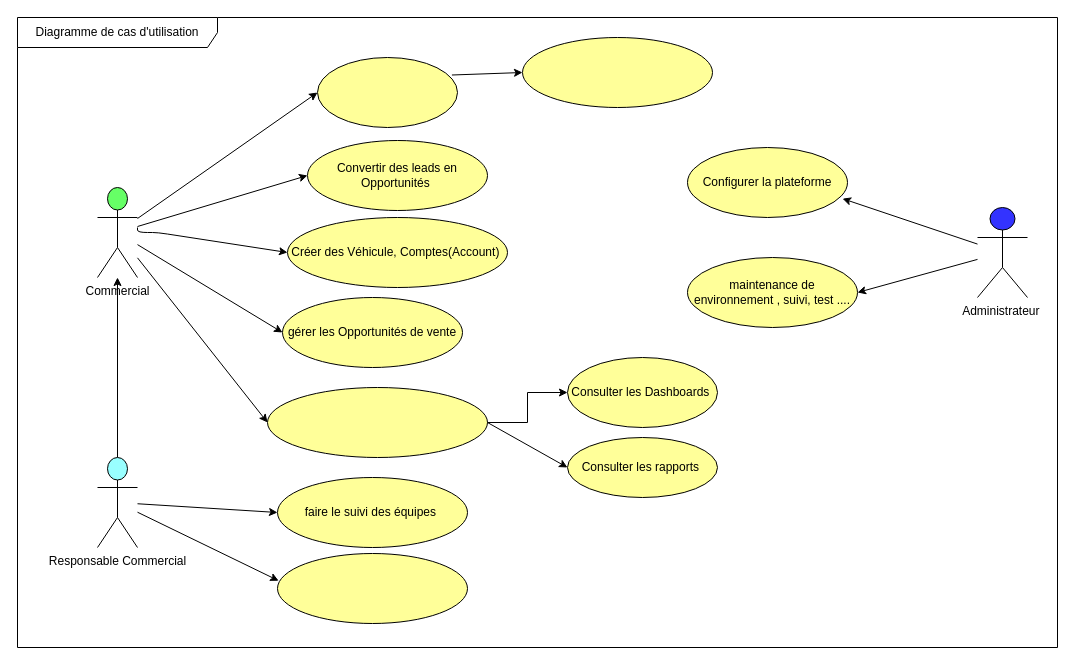
Image size: 1075x665. Some labels were removed from this diagram. The box of each missing label's shape, as (x1, y1, x2, y2) in pixels:
consulter les rapports tableaux de bord de l'activité: (276, 552, 468, 624)
Consulter les suivi de vente et performances: (266, 386, 488, 458)
Recevoir une tache et contacter le client: (316, 56, 458, 128)
Se positionné sur une lead: (522, 36, 712, 108)
